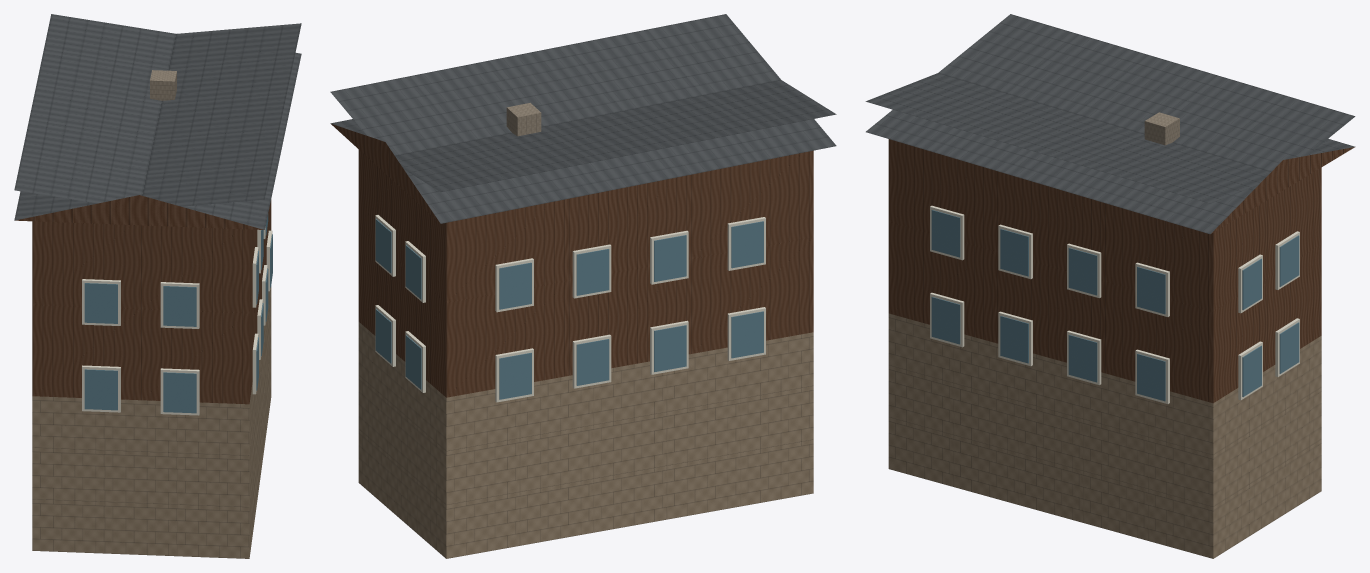
File: core_0046.gltf
The picture shows the model from 3 angles, left to right: view 1: azimuth 30°, elevation 25°; view 2: azimuth 150°, elevation 25°; view 3: azimuth 270°, elevation 25°; orthographic projection. The views are drawn at different scales.
Visible parts, largest first — view 1: core_0046; view 2: core_0046; view 3: core_0046.
Part boxes in pixels (<box>): core_0046: <box>14,14,301,558</box>; core_0046: <box>330,14,836,558</box>; core_0046: <box>865,14,1355,558</box>.
Bounding box in the file's own units: 13.34 × 12.25 × 14.56.
6 materials, 6 textured.
